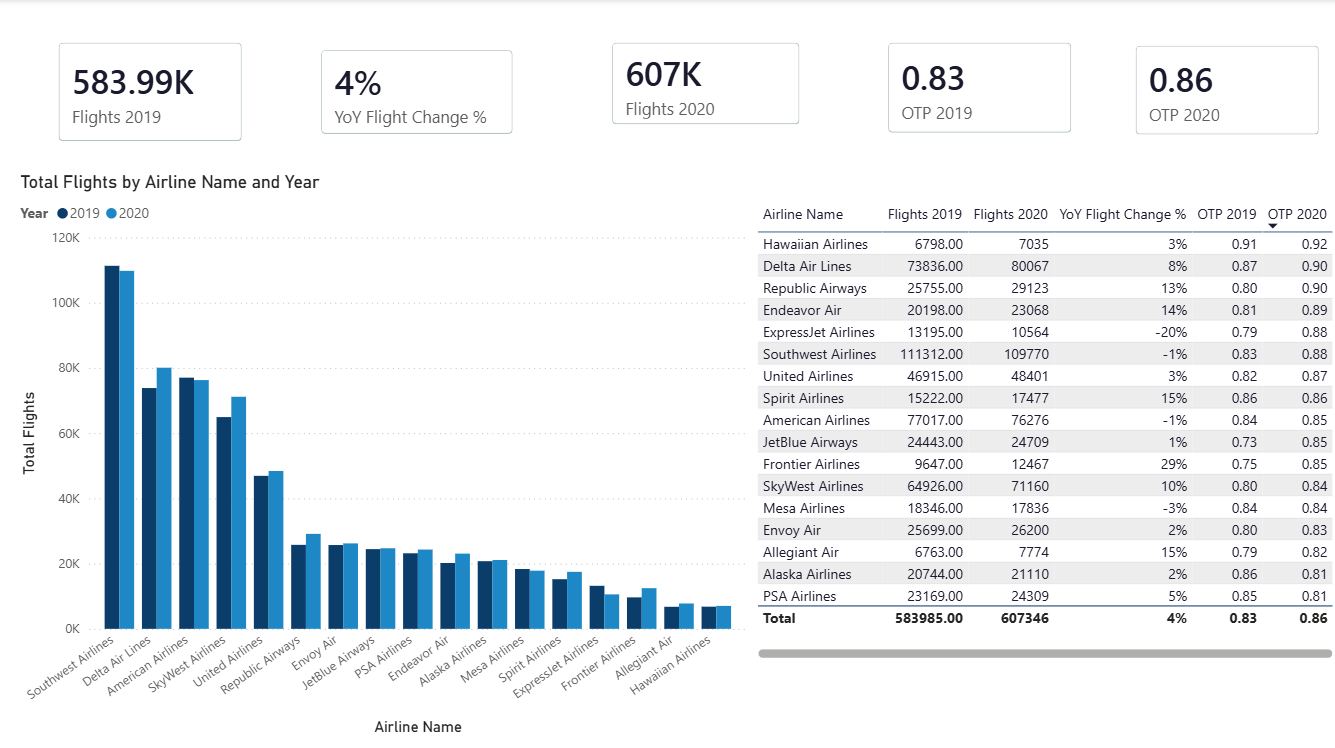

This screenshot's page, from the dashboard's own definition file:
{"tool":"powerbi","page":{"name":"YOY Comparison","canvas":[1280,720],"ordinal":2},"visuals":[{"type":"cardVisual","fields":{"Data":["_Measures.Flights 2019"]},"box":[41.4,23.9,210,128.8],"z":0},{"type":"cardVisual","fields":{"Data":["_Measures.Flights 2020"]},"box":[569.4,23.9,213.1,112.9],"z":1000},{"type":"cardVisual","fields":{"Data":["_Measures.YoY Flight Change %"]},"box":[292.7,31.8,217.9,114.5],"z":2000},{"type":"cardVisual","fields":{"Data":["_Measures.OTP 2019"]},"box":[833.5,23.9,210,120.9],"z":3000},{"type":"cardVisual","fields":{"Data":["_Measures.OTP 2020"]},"box":[1070.5,27,210,119.3],"z":4000},{"type":"clusteredColumnChart","fields":{"Category":["carrierlookup.Airline Name"],"Y":["_Measures.Total Flights"],"Series":["DateTable.Year"]},"box":[17.5,165.4,703.1,542.4],"z":5000},{"type":"tableEx","fields":{"Values":["carrierlookup.Airline Name","_Measures.Flights 2019","_Measures.Flights 2020","_Measures.YoY Flight Change %","_Measures.OTP 2019","_Measures.OTP 2020"]},"box":[720.5,189.3,559.9,445.4],"z":6000}]}

Visuals, with their boxes in screenshot pixels (x1, y1, x2, y2), scaled from the page's 1280x720 canvas onto the 1335x748 screenshot:
cardVisual - _Measures.Flights 2019: l=43, t=25, r=262, b=159
cardVisual - _Measures.Flights 2020: l=594, t=25, r=816, b=142
cardVisual - _Measures.YoY Flight Change %: l=305, t=33, r=533, b=152
cardVisual - _Measures.OTP 2019: l=869, t=25, r=1088, b=150
cardVisual - _Measures.OTP 2020: l=1116, t=28, r=1334, b=152
clusteredColumnChart - carrierlookup.Airline Name x _Measures.Total Flights: l=18, t=172, r=752, b=735
tableEx - carrierlookup.Airline Name x _Measures.Flights 2019: l=751, t=197, r=1334, b=659
